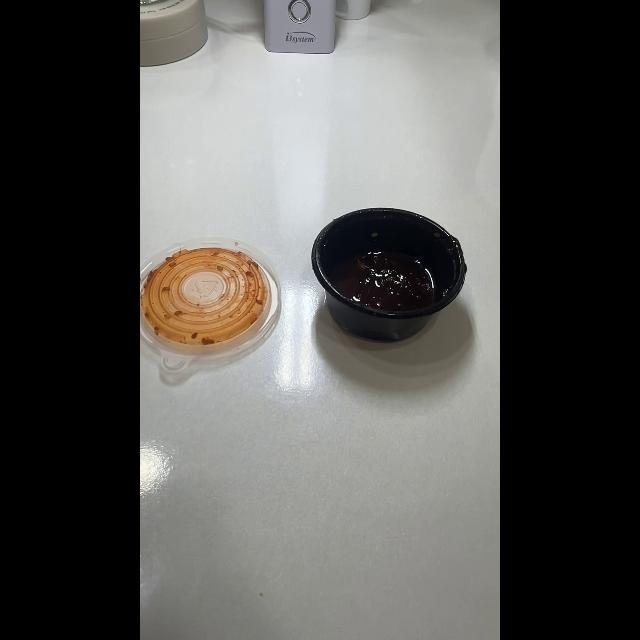dirty: (314, 202, 474, 341), (140, 234, 290, 376)
